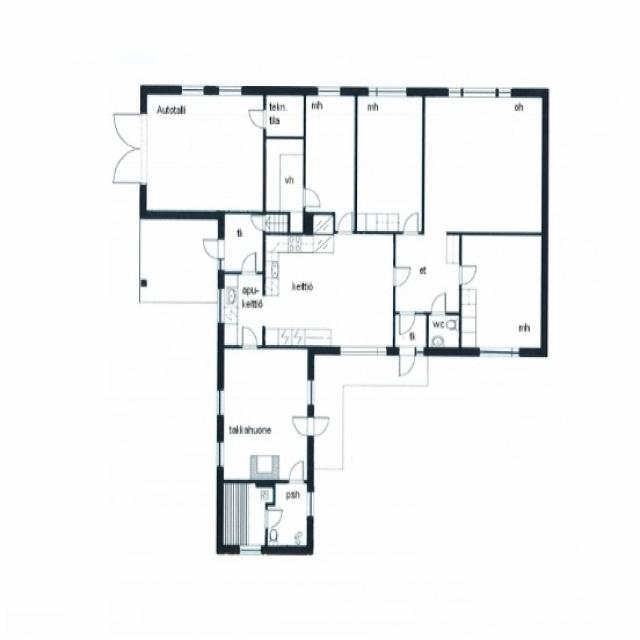door: (114, 148, 146, 183), (114, 114, 146, 148), (293, 417, 314, 436), (400, 346, 414, 374), (308, 417, 328, 436), (203, 240, 223, 259), (399, 312, 415, 335), (248, 110, 266, 128), (431, 294, 446, 315), (242, 329, 256, 350), (242, 253, 256, 274), (404, 214, 418, 235), (338, 214, 352, 235), (289, 462, 303, 483), (393, 268, 409, 286), (459, 266, 475, 284), (303, 189, 319, 206), (266, 510, 281, 527), (251, 216, 265, 231)
